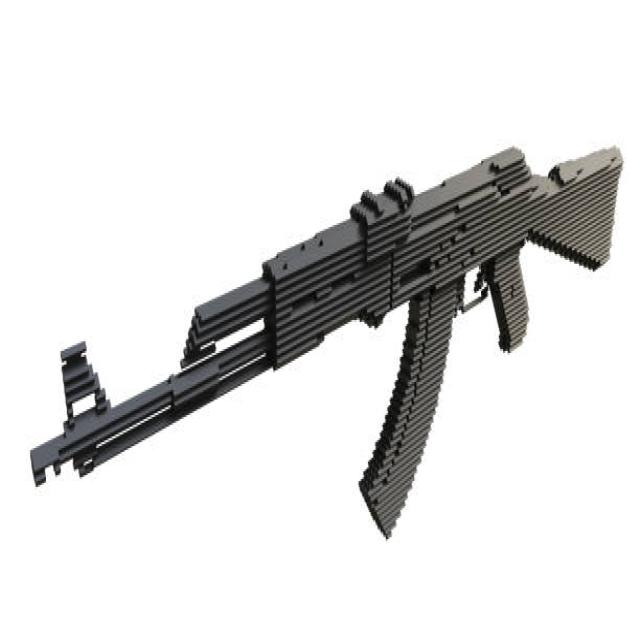rifle: (27, 131, 628, 543)
